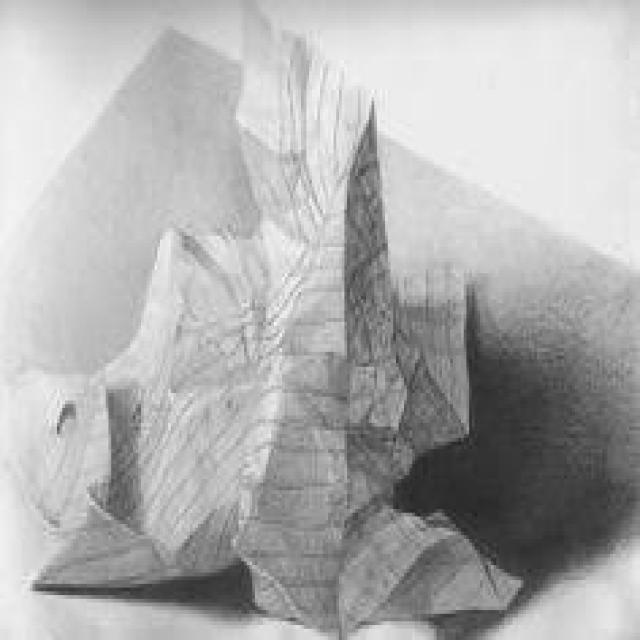Paper: (1, 0, 638, 640)
